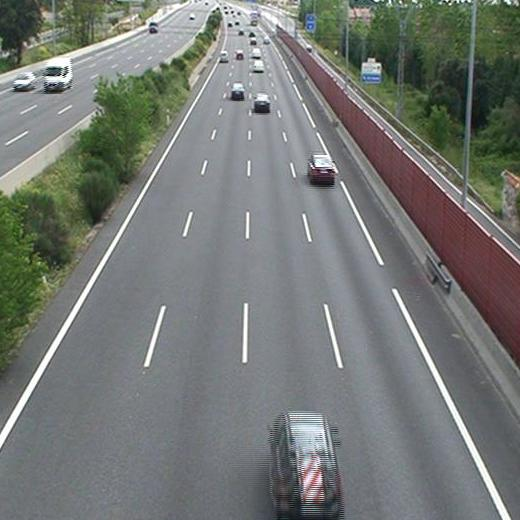car: (273, 414, 340, 511), (308, 156, 334, 179), (255, 94, 271, 109), (231, 84, 244, 98), (252, 60, 265, 71), (250, 48, 261, 57), (219, 52, 229, 61), (235, 51, 244, 58)
